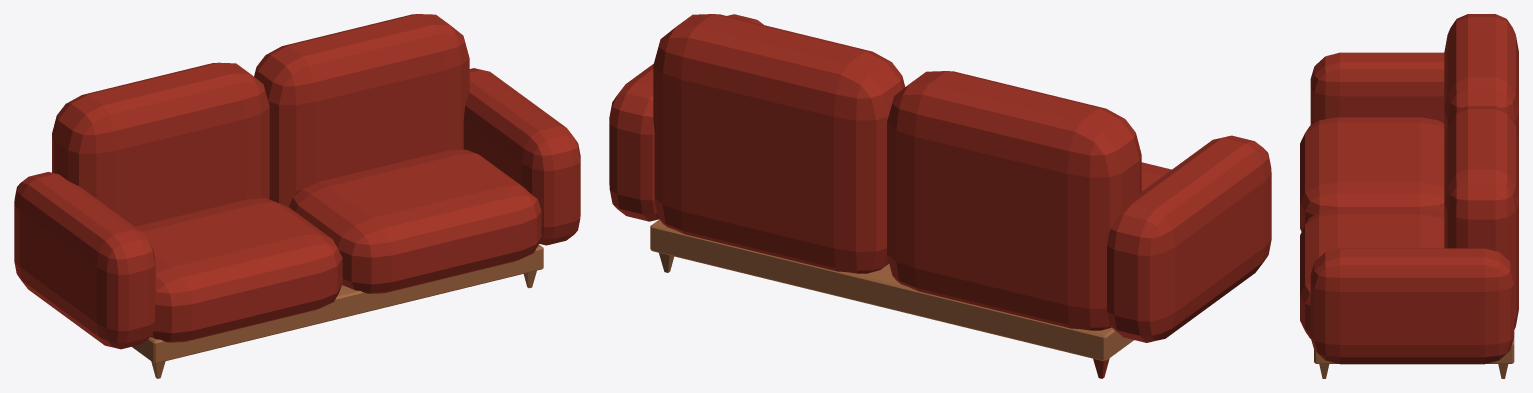
Rendered from sofa_double.gltf.
3 renders of one model, left to right at view 1: azimuth 30°, elevation 25°; view 2: azimuth 150°, elevation 25°; view 3: azimuth 270°, elevation 25°, orthographic. The views are drawn at different scales.
Parts seen in each view (by area): view 1: Sofa A; view 2: Sofa A; view 3: Sofa A.
Part boxes in pixels (box(x1,y1,x2,y2)): Sofa A: box(14, 14, 580, 378); Sofa A: box(609, 14, 1271, 378); Sofa A: box(1300, 14, 1518, 378).
Size of the model in its own units: 10.4 by 4.4 by 4.37.
